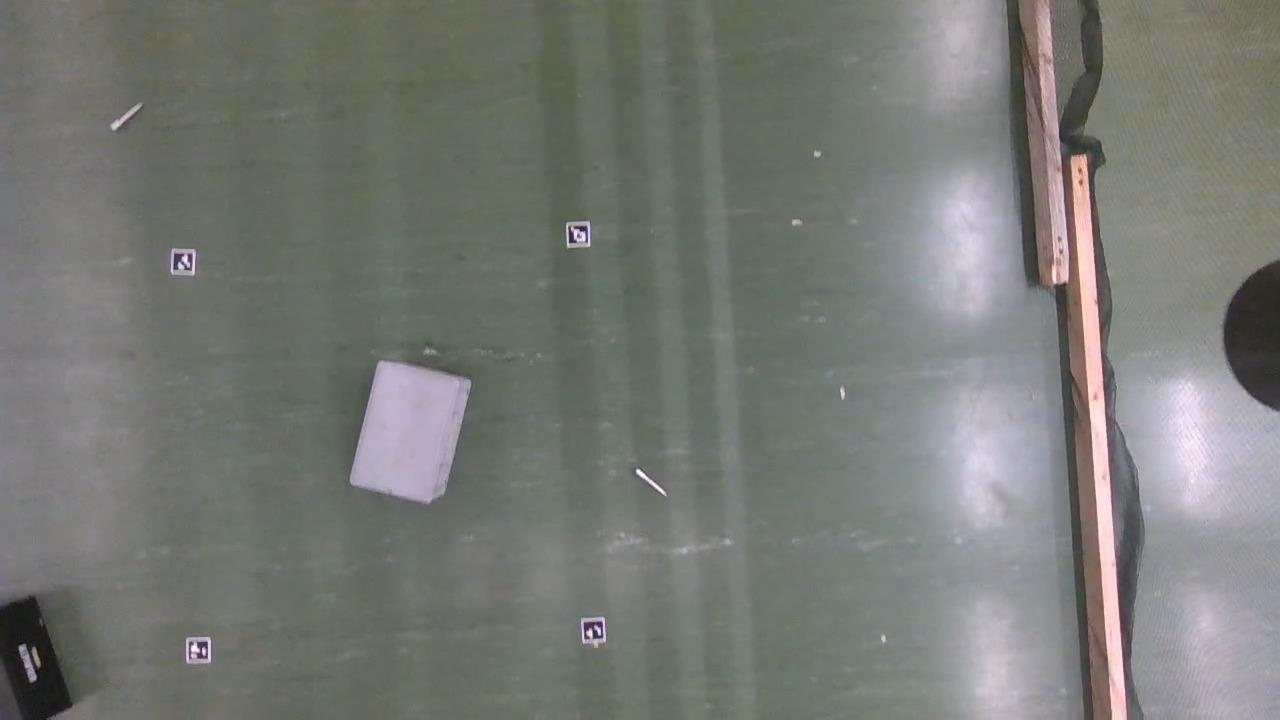probes: (637, 468, 666, 498), (113, 104, 142, 132)
rako: (348, 360, 472, 507), (0, 598, 73, 720)
